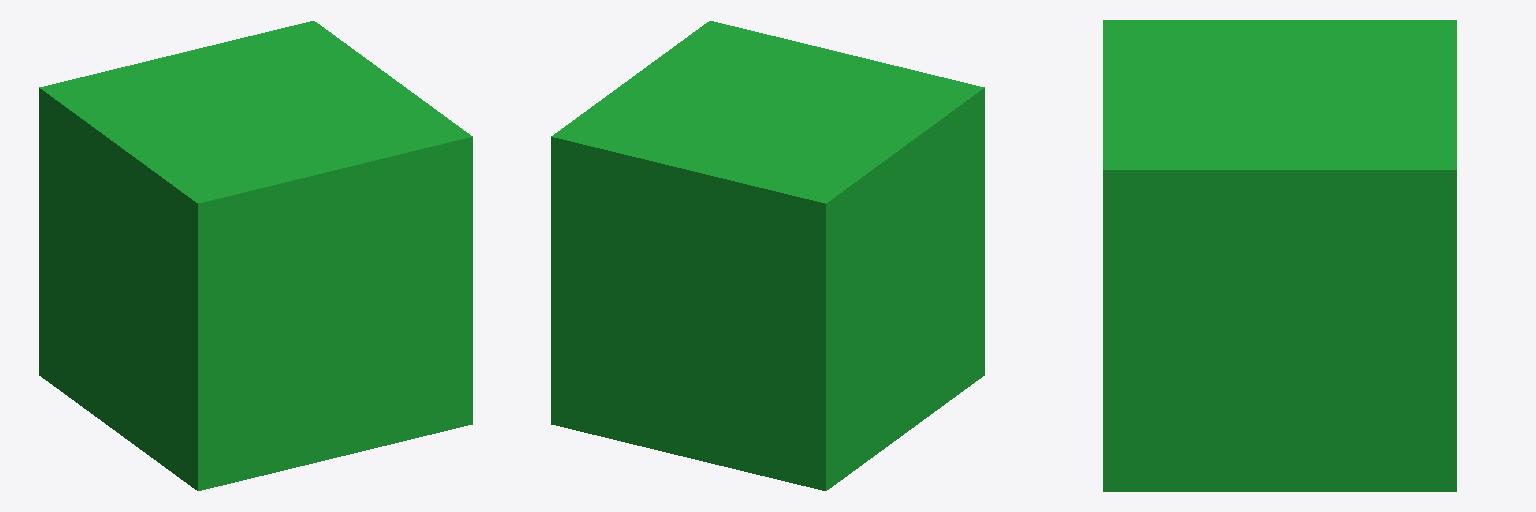
URDF robot description (green_cube):
<?xml version="1.0"?>
<robot name="green_cube">
  <link name="base_link">
    <contact>
      <lateral_friction value="0.9"/>
      <rolling_friction value="0.03"/>
      <spinning_friction value="0.03"/>
      <restitution value="0.0"/>
    </contact>
    <inertial>
      <origin rpy="0 0 0" xyz="0 0 0"/>
      <mass value="0.5"/>
      <inertia ixx="0.001" ixy="0" ixz="0" iyy="0.001" iyz="0" izz="0.001"/>
    </inertial>
    <visual>
      <origin rpy="0 0 0" xyz="0 0 0"/>
      <geometry>
        <box size="0.12 0.12 0.12"/>
      </geometry>
      <material name="green">
        <color rgba="0.180 0.720 0.280 1.000"/>
      </material>
    </visual>
    <collision>
      <origin rpy="0 0 0" xyz="0 0 0"/>
      <geometry>
        <box size="0.12 0.12 0.12"/>
      </geometry>
    </collision>
  </link>
</robot>

--- Render facts (derived) ---
3 views of the same robot in one strip: view 1: azimuth 30°, elevation 25°; view 2: azimuth 150°, elevation 25°; view 3: azimuth 270°, elevation 25° (orthographic).
Model green_cube with 1 links and 0 joints (none), rooted at base_link, posed all joints at 0.
Visible links, largest first — view 1: base_link; view 2: base_link; view 3: base_link.
Boxes of the visible links, box(x1,y1,x2,y2) form: base_link: box(39, 21, 472, 490); base_link: box(551, 21, 984, 490); base_link: box(1103, 20, 1456, 491).
Size in the robot's own frame: 0.12 by 0.12 by 0.12 metres.
Geometry: primitives only (box / cylinder / sphere), no mesh files.
